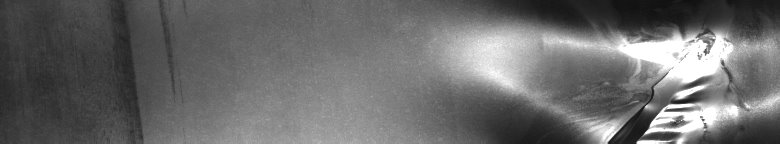ke: (544, 20, 776, 136)
